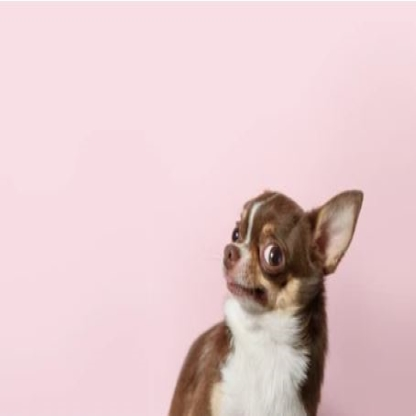chihuahua: (165, 187, 373, 416)
